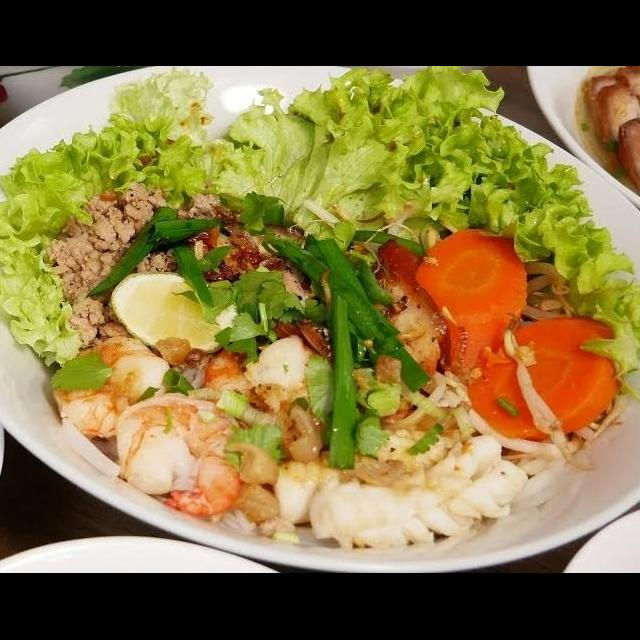muc: (302, 428, 536, 558), (270, 420, 466, 528)
thit bam: (40, 174, 254, 356)
tom: (109, 382, 258, 522), (47, 326, 182, 448)
